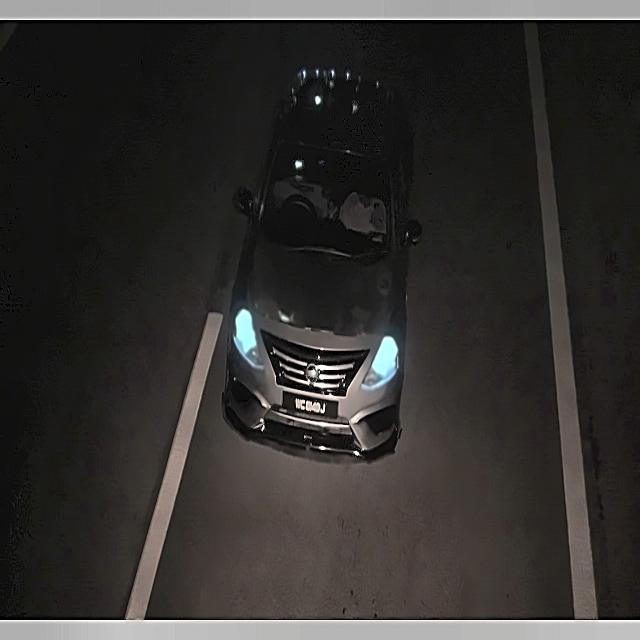car: (279, 387, 343, 426)
